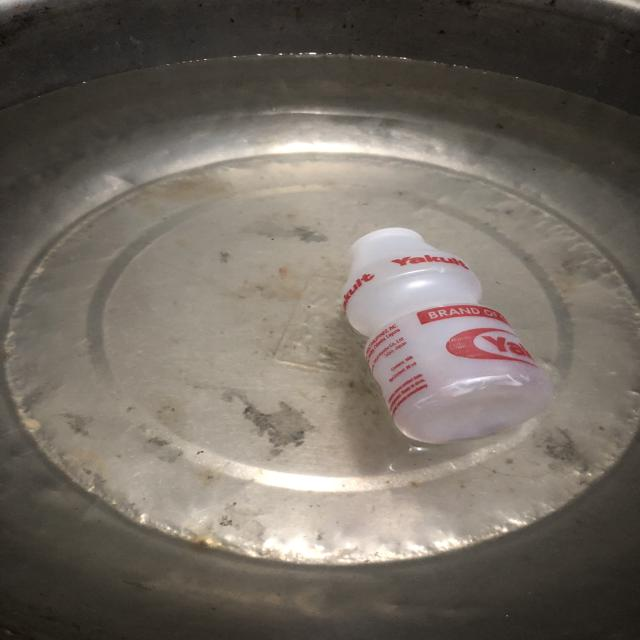Plastic Bottle: (324, 215, 555, 474)
